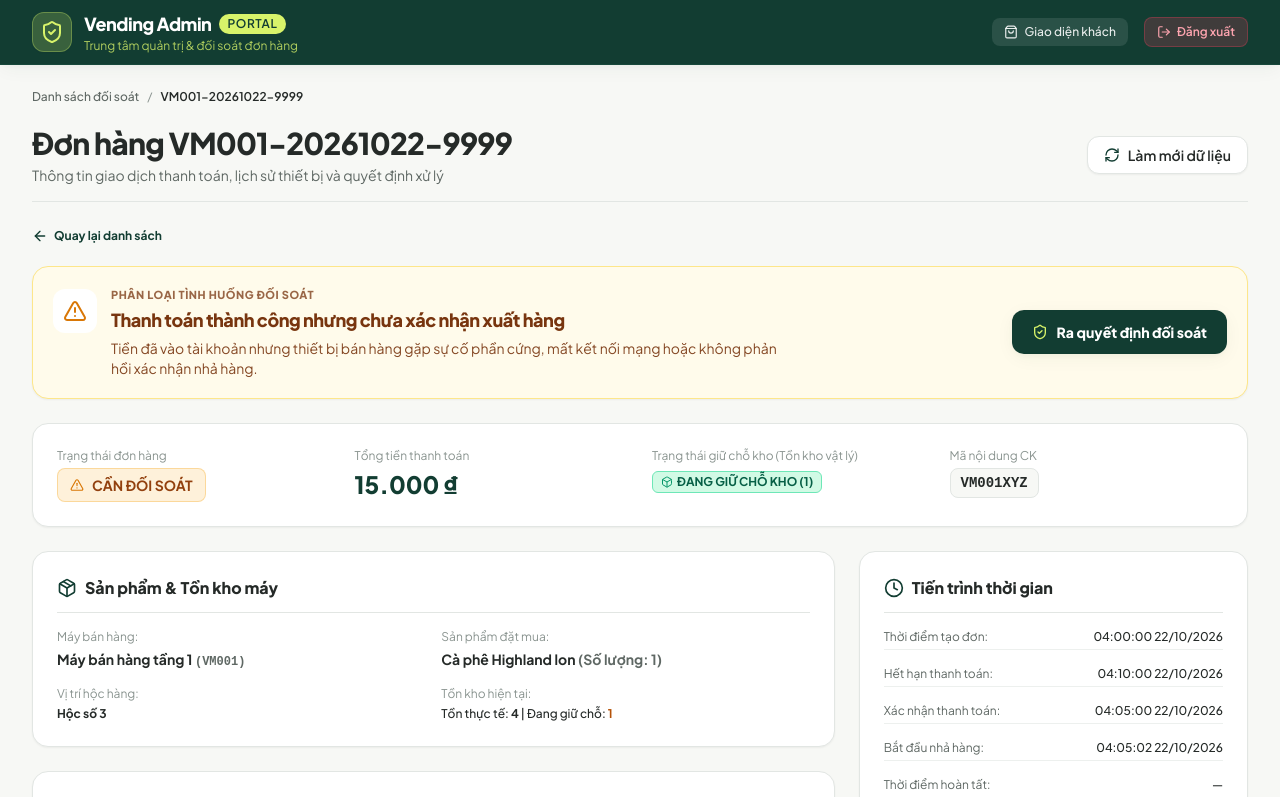
Test: ReconciliationOrderDetailPage Component › opens decision modal when clicking "Ra quyết định đối soát"
Expected: the text "VM001-20261022-9999" is shown, left=160, top=89, right=303, bottom=105
Click the button "Ra quyết định đối soát": (1120, 332) left=1012, top=310, right=1227, bottom=354
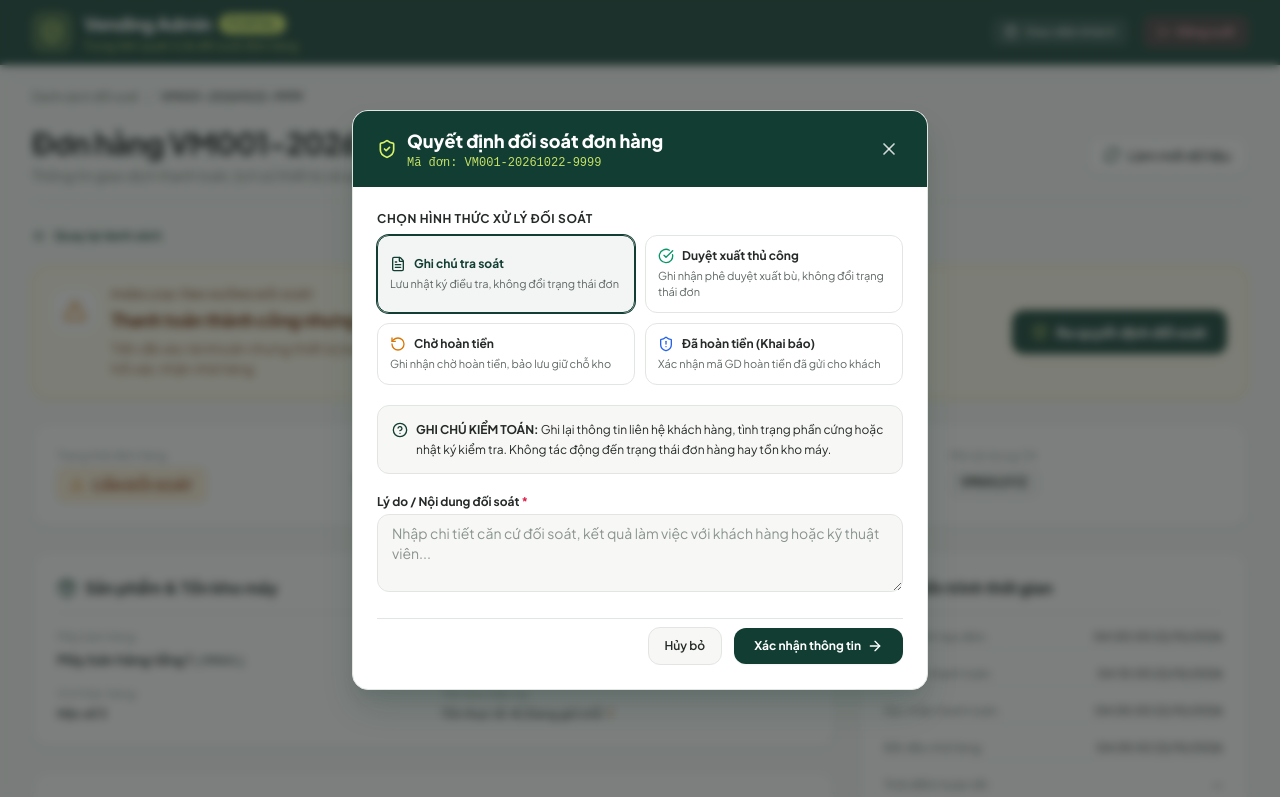
Expected: the heading "Quyết định đối soát đơn hàng" is shown, left=407, top=127, right=663, bottom=155
